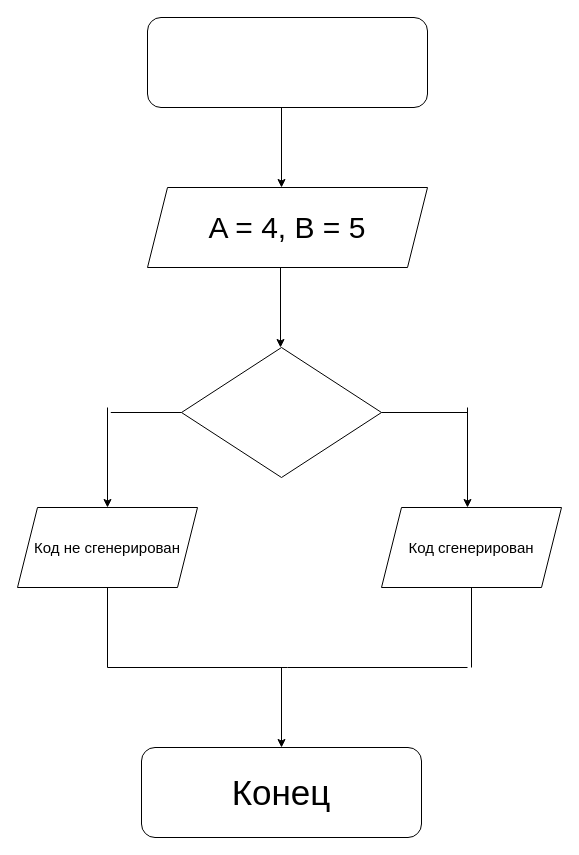
The diagram is 579 pixels wide and 855 high, and some of its shapes have lost their labels. Each missing label, with the box of its shape:
(A % 2) ! = (B % 2): (180, 346, 382, 478)
Начало: (146, 16, 428, 108)
